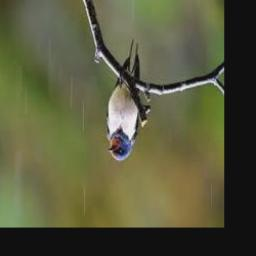Swallow: (105, 39, 140, 161)
